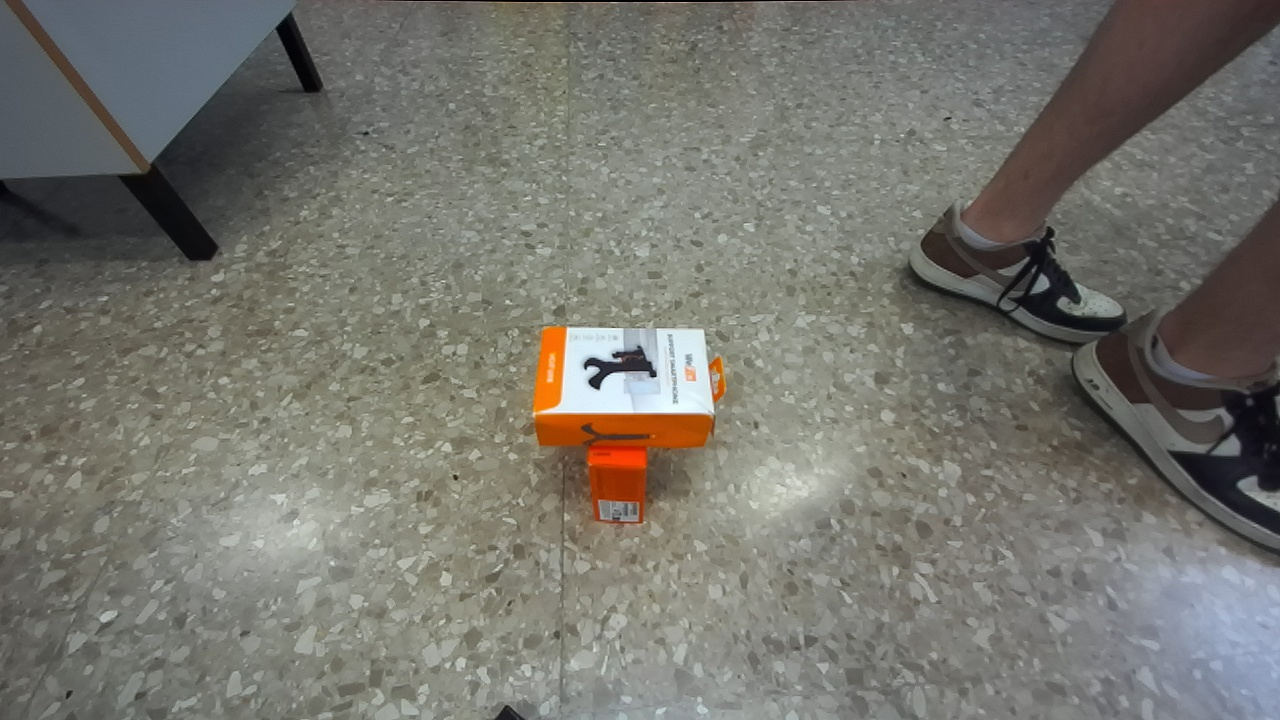caja_manguera: (588, 445, 646, 523)
caja_pcb: (532, 327, 726, 449)
